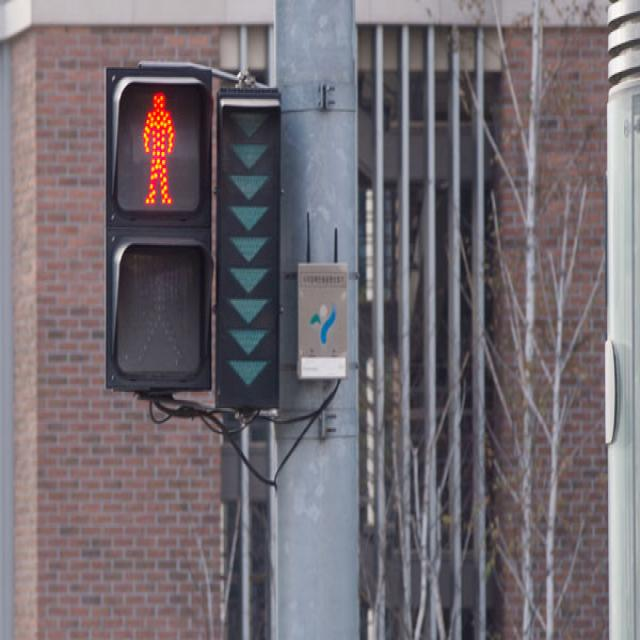Not go: (112, 65, 227, 405), (125, 83, 206, 224)
